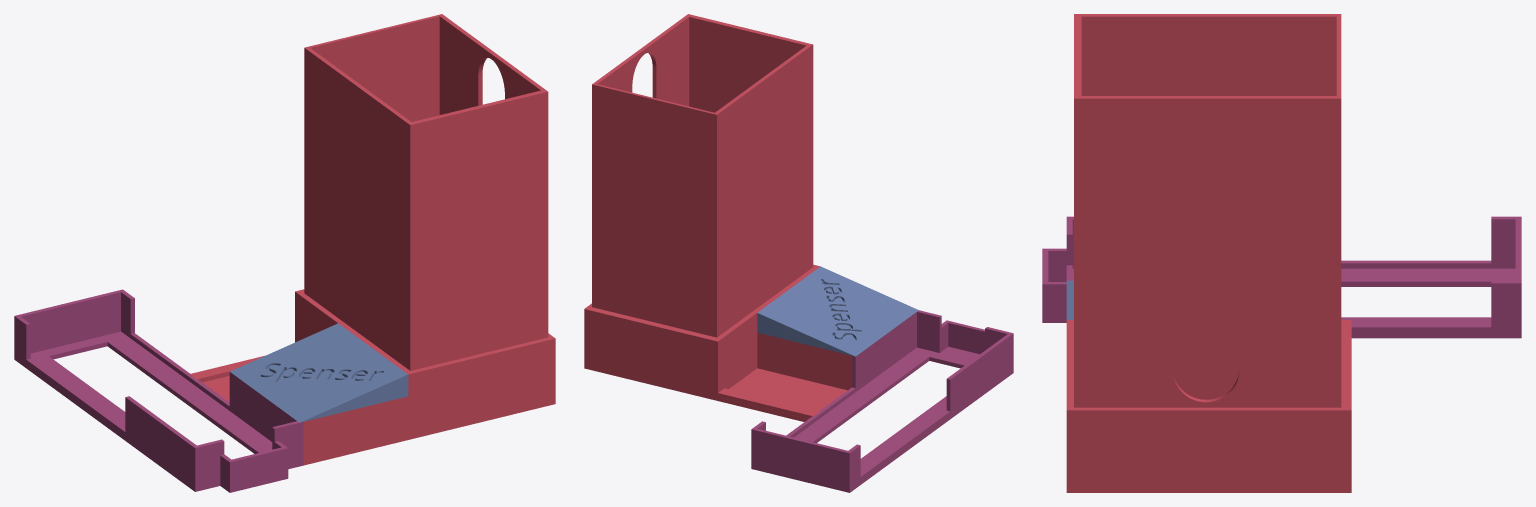
Rendered from tower-motor.glb.
3 renders of one model, left to right at view 1: azimuth 30°, elevation 25°; view 2: azimuth 150°, elevation 25°; view 3: azimuth 270°, elevation 25°, orthographic. The views are drawn at different scales.
Visible parts, largest first — view 1: Mesh_Mesh_head_geo.001_lambert2SG.001; view 2: Mesh_Mesh_head_geo.001_lambert2SG.001; view 3: Mesh_Mesh_head_geo.001_lambert2SG.001.
Part boxes in pixels (left/top/right/bottom): Mesh_Mesh_head_geo.001_lambert2SG.001: left=14, top=14, right=555, bottom=492; Mesh_Mesh_head_geo.001_lambert2SG.001: left=584, top=14, right=1013, bottom=492; Mesh_Mesh_head_geo.001_lambert2SG.001: left=1042, top=14, right=1521, bottom=492.
Bounding box in the file's own units: 0.0863 × 0.0712 × 0.079.
